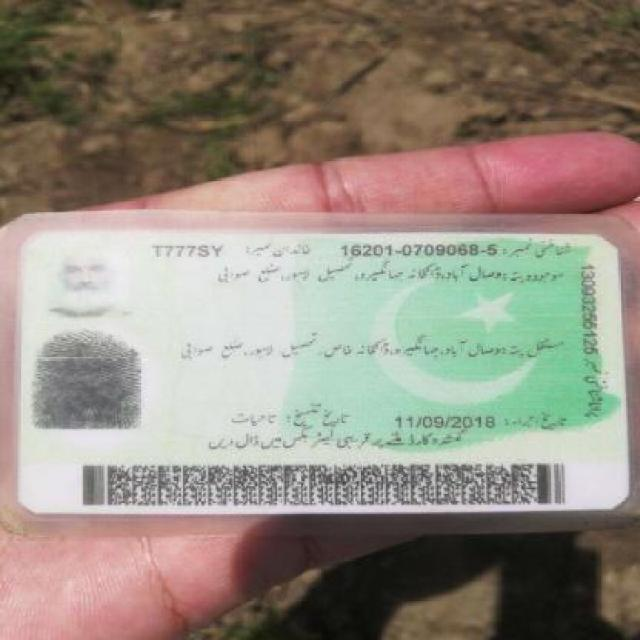Back: (15, 222, 632, 524)
